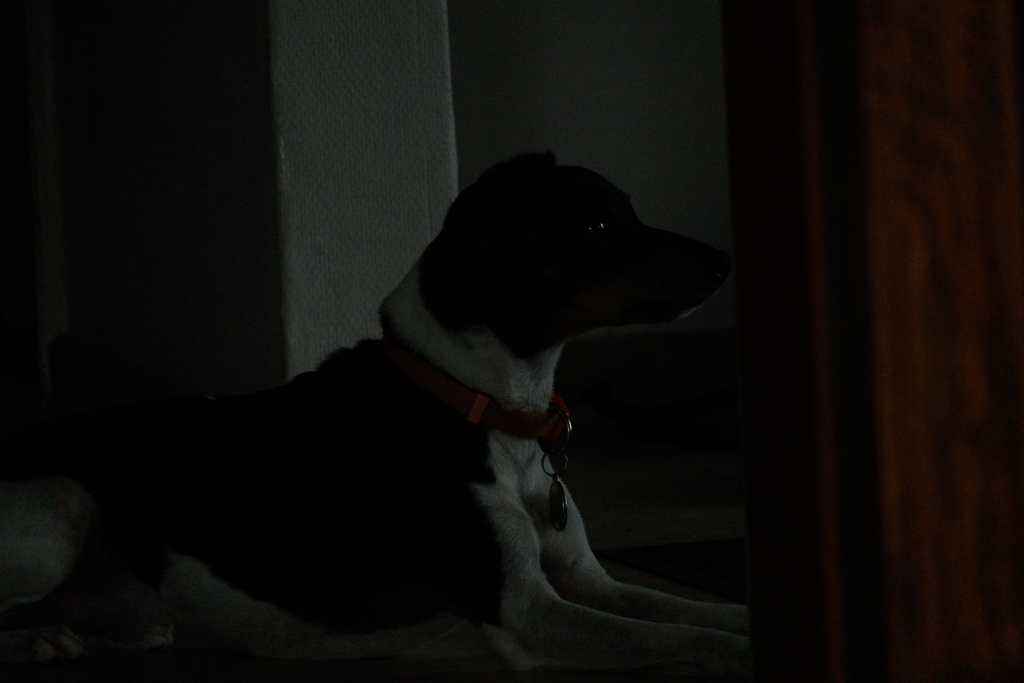Dog: (25, 135, 772, 683)
